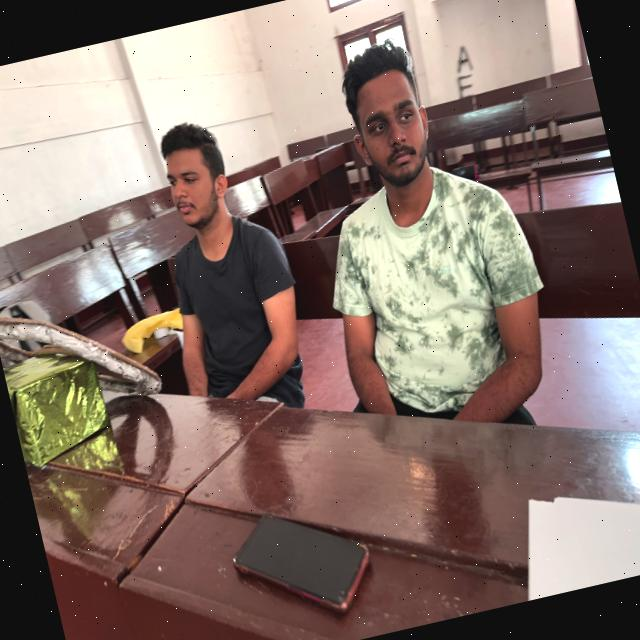Helmet: (308, 154, 584, 520), (156, 215, 320, 443)
